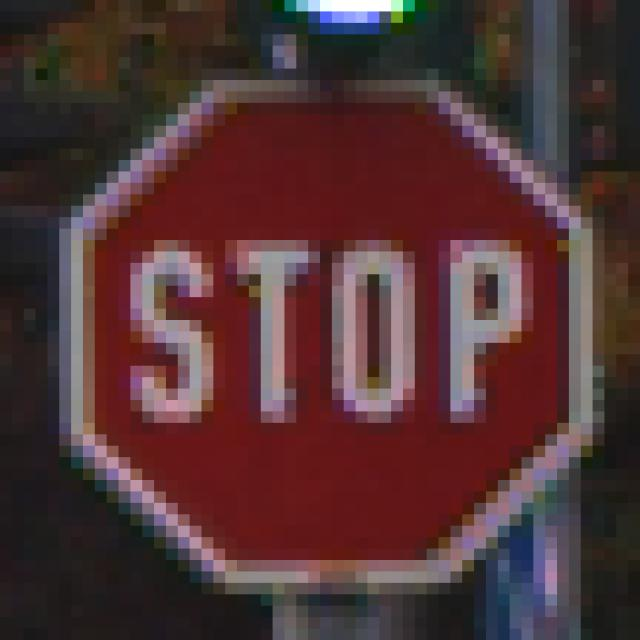STOP: (60, 69, 582, 584)
